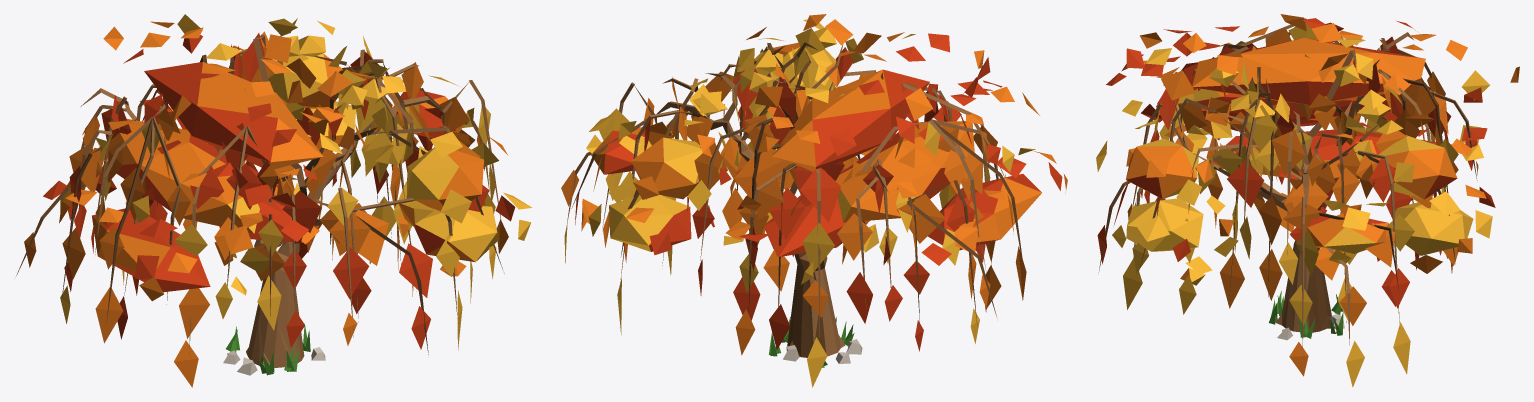
The model's file is wisteria_autumn.glb.
3 renders of one model, left to right at view 1: azimuth 30°, elevation 25°; view 2: azimuth 150°, elevation 25°; view 3: azimuth 270°, elevation 25°, orthographic. The views are drawn at different scales.
Parts seen in each view (by area): view 1: wisteria_autumn; view 2: wisteria_autumn; view 3: wisteria_autumn.
Boxes of the visible parts, box(x1,y1,x2,y2) form: wisteria_autumn: box(15, 14, 532, 387); wisteria_autumn: box(561, 14, 1067, 387); wisteria_autumn: box(1096, 14, 1519, 387).
Bounding box in the file's own units: 9.69 × 6.16 × 8.24.
